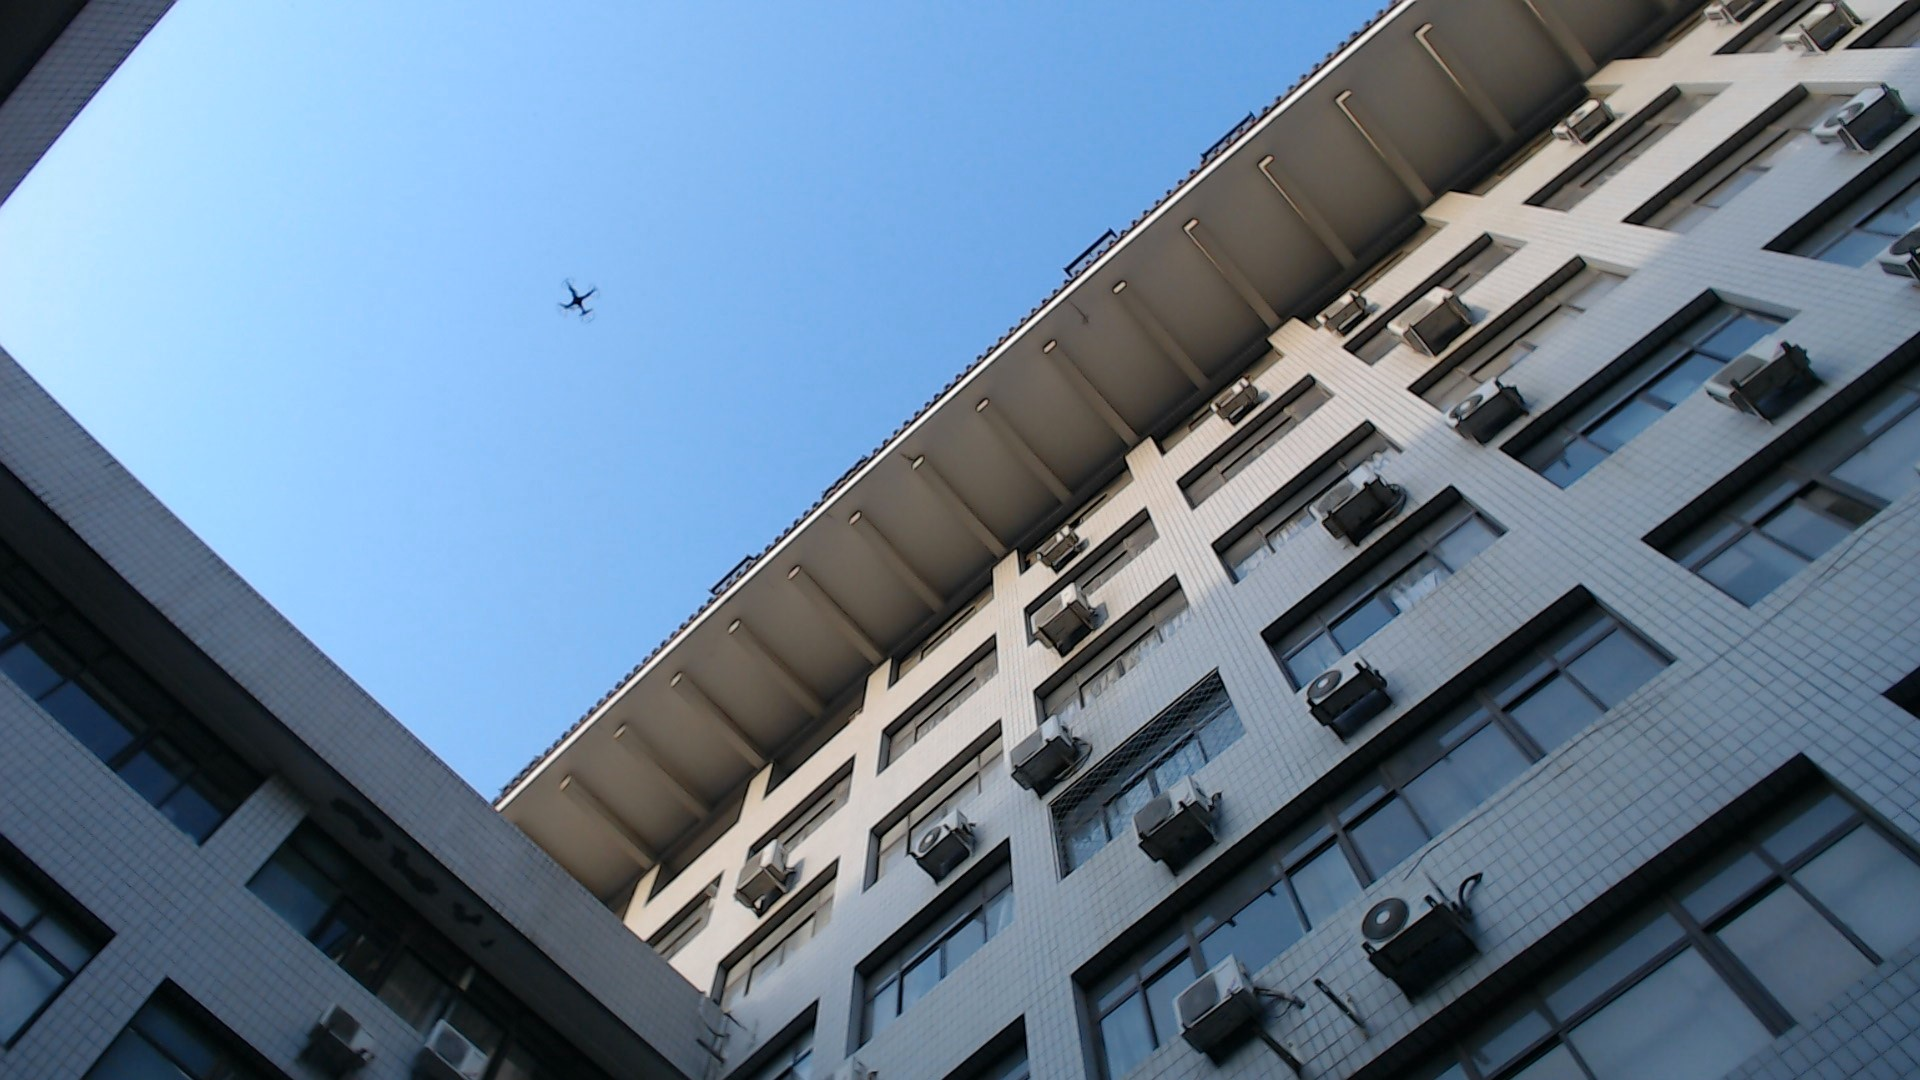drone: (541, 261, 616, 334)
